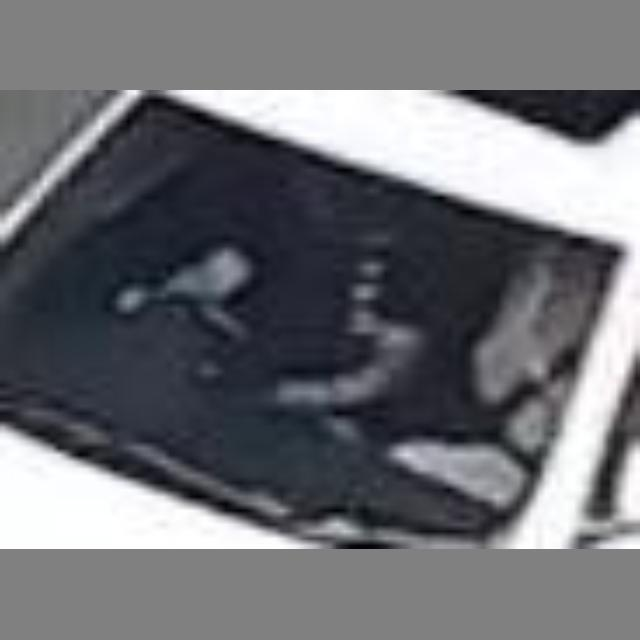tidak-pakai: (174, 146, 417, 424)
